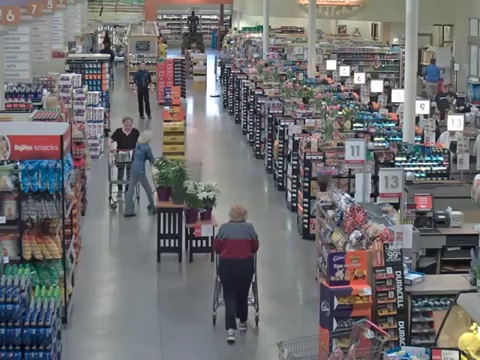face: (124, 119, 133, 130), (140, 64, 145, 70)
